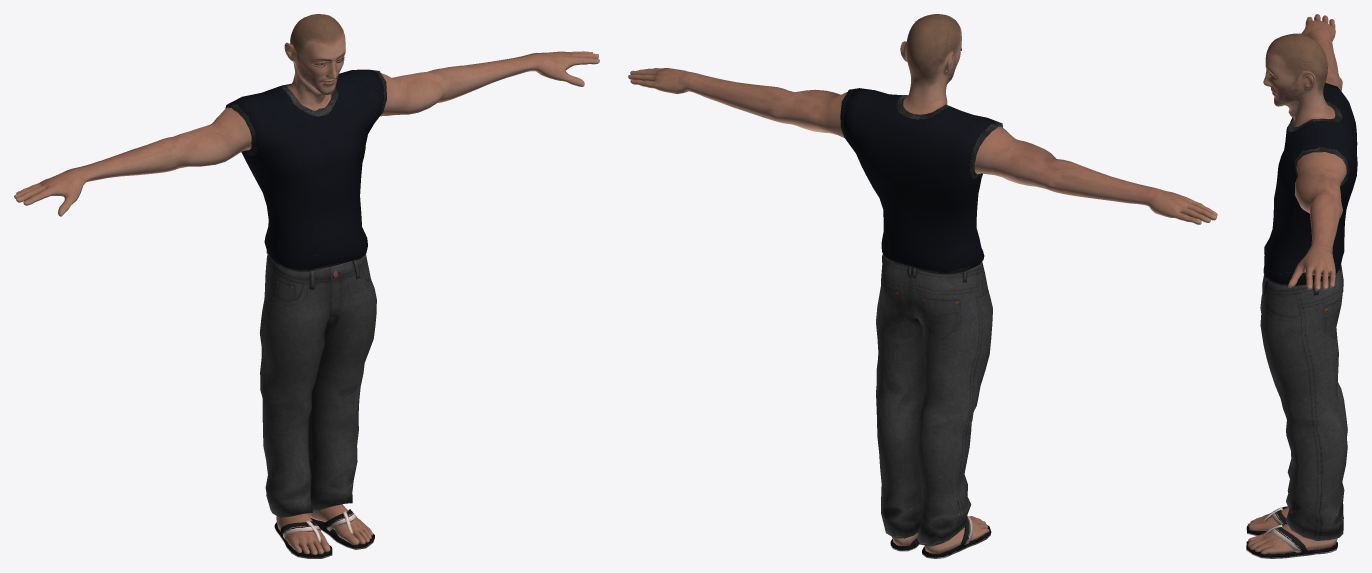
The model's file is Kosiposha.obj.
3 views of the same model, side by side, from view 1: azimuth 30°, elevation 25°; view 2: azimuth 150°, elevation 25°; view 3: azimuth 270°, elevation 25° (orthographic). The views are drawn at different scales.
Visible parts, largest first — view 1: Bottoms, Tops, Body, Shoes; view 2: Bottoms, Tops, Body, Shoes; view 3: Bottoms, Body, Tops, Shoes.
Boxes of the visible parts, box(x1,y1,x2,y2) form: Bottoms: box(260, 254, 376, 517); Tops: box(225, 69, 386, 271); Body: box(14, 14, 599, 554); Shoes: box(274, 509, 374, 558); Bottoms: box(876, 254, 992, 546); Tops: box(840, 88, 1002, 274); Body: box(628, 14, 1217, 553); Shoes: box(890, 515, 991, 558); Bottoms: box(1260, 264, 1347, 540); Body: box(1247, 14, 1346, 554); Tops: box(1264, 82, 1357, 286); Shoes: box(1246, 506, 1337, 558).
Bounding box in the file's own units: 212 × 180 × 36.04.
4 materials, 4 textured.
